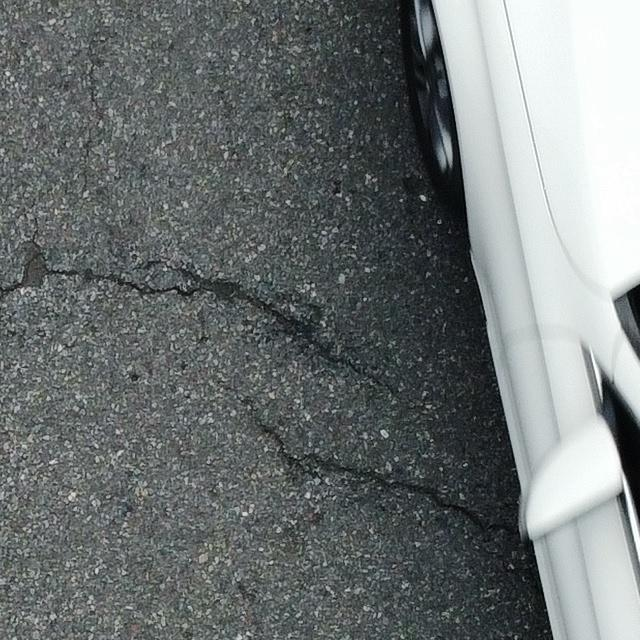TransverseCrack: (3, 244, 400, 390), (254, 422, 487, 528)
